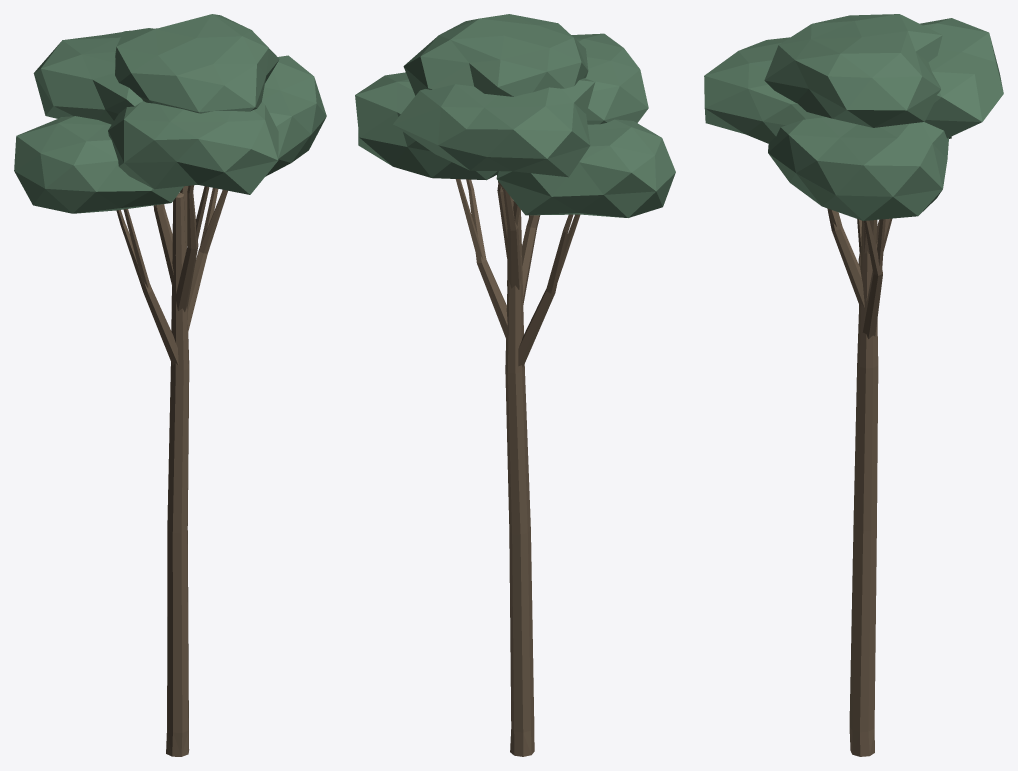
Rendered from pine.fbx.
The picture shows the model from 3 angles, left to right: view 1: azimuth 30°, elevation 25°; view 2: azimuth 150°, elevation 25°; view 3: azimuth 270°, elevation 25°; orthographic projection.
Visible parts, largest first — view 1: pine; view 2: pine; view 3: pine.
Part boxes in pixels (x1,y1,x2,y2): pine: (14, 14, 326, 756); pine: (355, 14, 675, 756); pine: (704, 14, 1003, 756).
Bounding box in the file's own units: 7 × 16 × 5.99.
